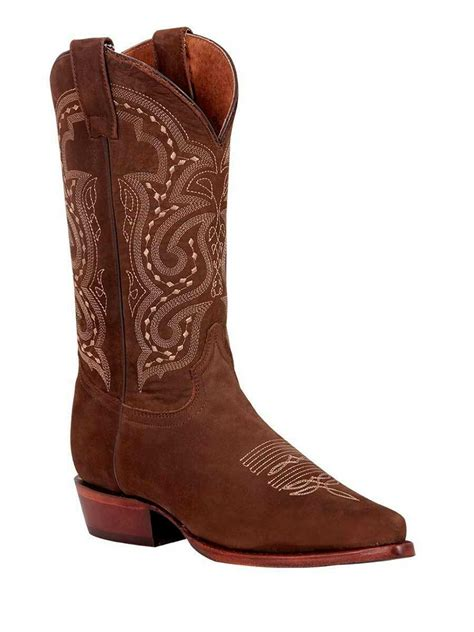gamuza: (49, 27, 407, 556)
